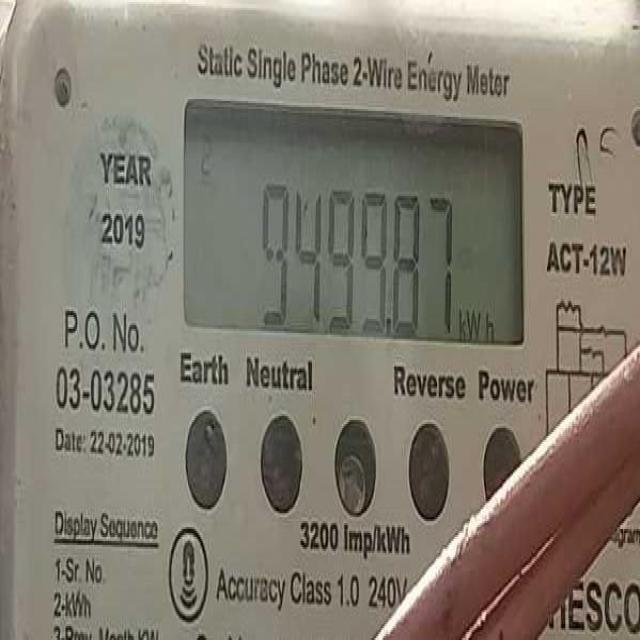4: (295, 190, 324, 326)
7: (428, 187, 458, 336)
8: (393, 186, 423, 334)
9: (259, 180, 296, 332), (358, 186, 390, 330), (327, 180, 357, 332)
Digital meter: (186, 105, 522, 350)
point: (384, 308, 394, 340)
